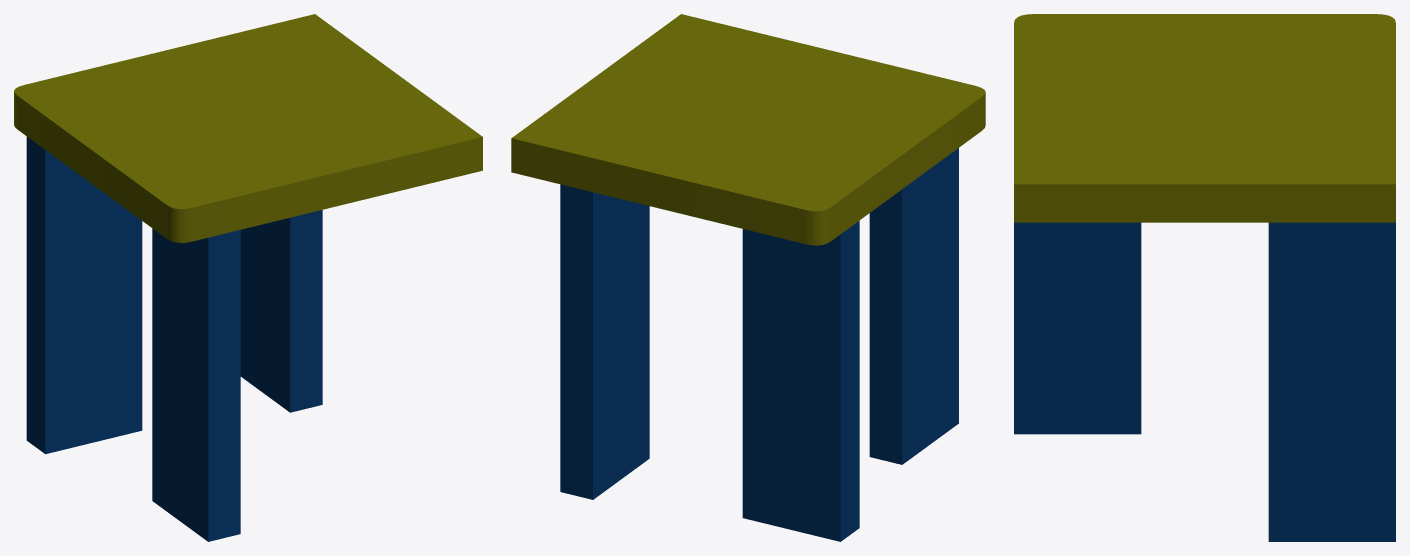
The model's file is T4DirB.fbx.
The picture shows the model from 3 angles, left to right: view 1: azimuth 30°, elevation 25°; view 2: azimuth 150°, elevation 25°; view 3: azimuth 270°, elevation 25°; orthographic projection. The views are drawn at different scales.
Parts seen in each view (by area): view 1: 3, 4, 2, 1; view 2: 4, 2, 3, 1; view 3: 2, 3, 1, 4.
Part boxes in pixels (x1,y1,x2,y2): 3: [92, 113, 329, 541]; 4: [14, 51, 244, 454]; 2: [162, 14, 398, 412]; 1: [246, 75, 482, 207]; 4: [666, 114, 906, 541]; 2: [511, 76, 750, 499]; 3: [752, 52, 985, 464]; 1: [597, 14, 835, 113]; 2: [1205, 99, 1395, 541]; 3: [1014, 14, 1204, 434]; 1: [1014, 99, 1204, 222]; 4: [1205, 14, 1395, 99].
Size of the model in its own units: 190 by 200 by 180.
